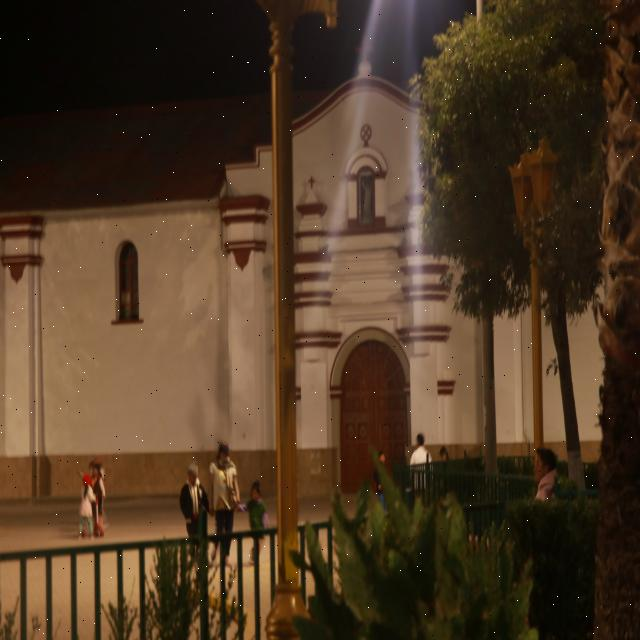PORTADA CENTRAL: (283, 204, 467, 511)
colonial-architecture-: (0, 50, 640, 518)
